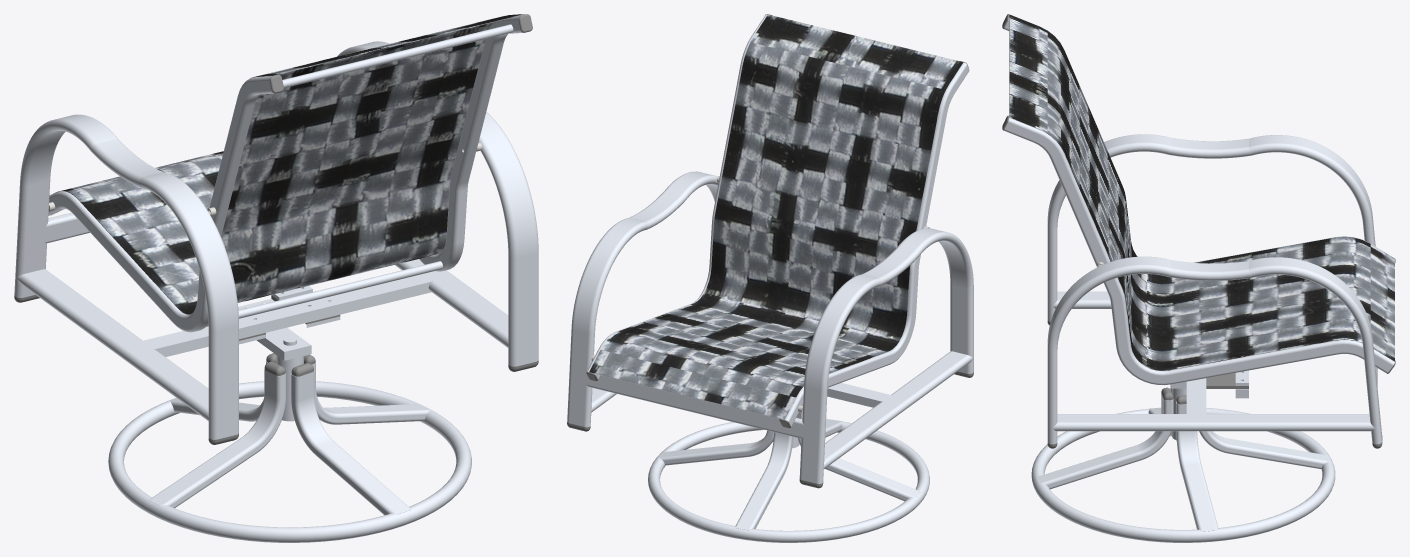
3 renders of one model, left to right at view 1: azimuth 30°, elevation 25°; view 2: azimuth 150°, elevation 25°; view 3: azimuth 270°, elevation 25°, orthographic. The views are drawn at different scales.
Visible parts, largest first — view 1: FABRIC-1, FRAME-1, BASE-1; view 2: FABRIC-1, FRAME-1, BASE-1; view 3: FABRIC-1, FRAME-1, BASE-1.
Boxes of the visible parts, box(x1,y1,x2,y2) form: FABRIC-1: box(51, 14, 525, 314); FRAME-1: box(14, 14, 538, 444); BASE-1: box(108, 353, 471, 542); FABRIC-1: box(589, 14, 963, 419); FRAME-1: box(567, 14, 973, 488); BASE-1: box(648, 419, 929, 542); FABRIC-1: box(1009, 14, 1394, 370); FRAME-1: box(1002, 14, 1395, 448); BASE-1: box(1031, 387, 1335, 542).
Bounding box in the file's own units: 0.616 × 0.8939 × 0.7636.
4 materials, 1 textured.
